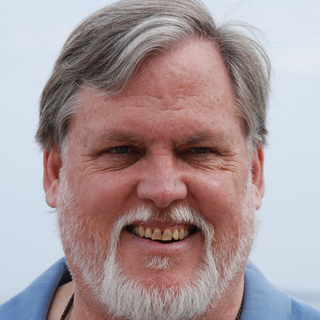eye: (95, 140, 146, 164), (177, 140, 226, 164)
